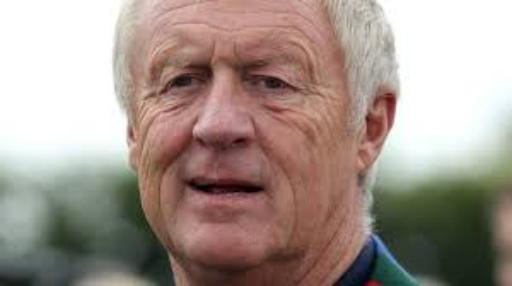left_eye: (248, 77, 301, 94)
left_lip_corner: (250, 183, 283, 199)
right_eye: (164, 76, 210, 94)
right_lip_corner: (172, 176, 205, 195)
